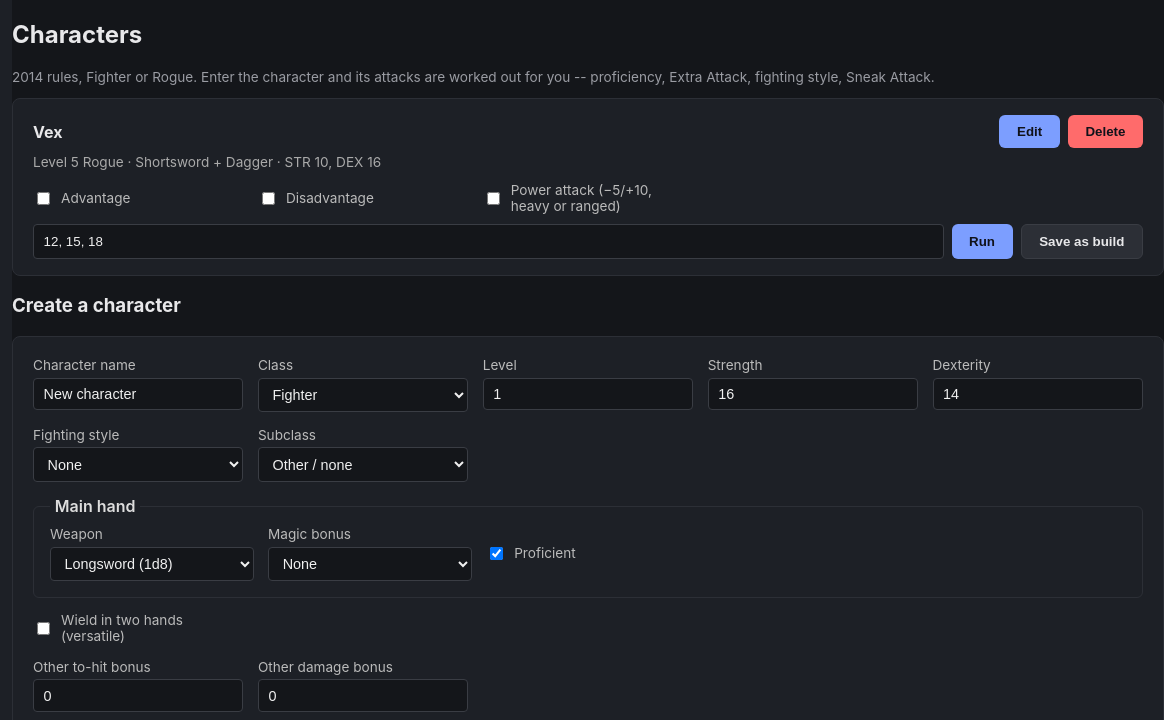
CharactersPanel › saves the character's round as a build
Expected: the text "Vex" is shown, top-left (33, 122), bottom-right (62, 142)
Click the button "Save as build" at (1082, 241), box top-left (1021, 224), bottom-right (1143, 259)
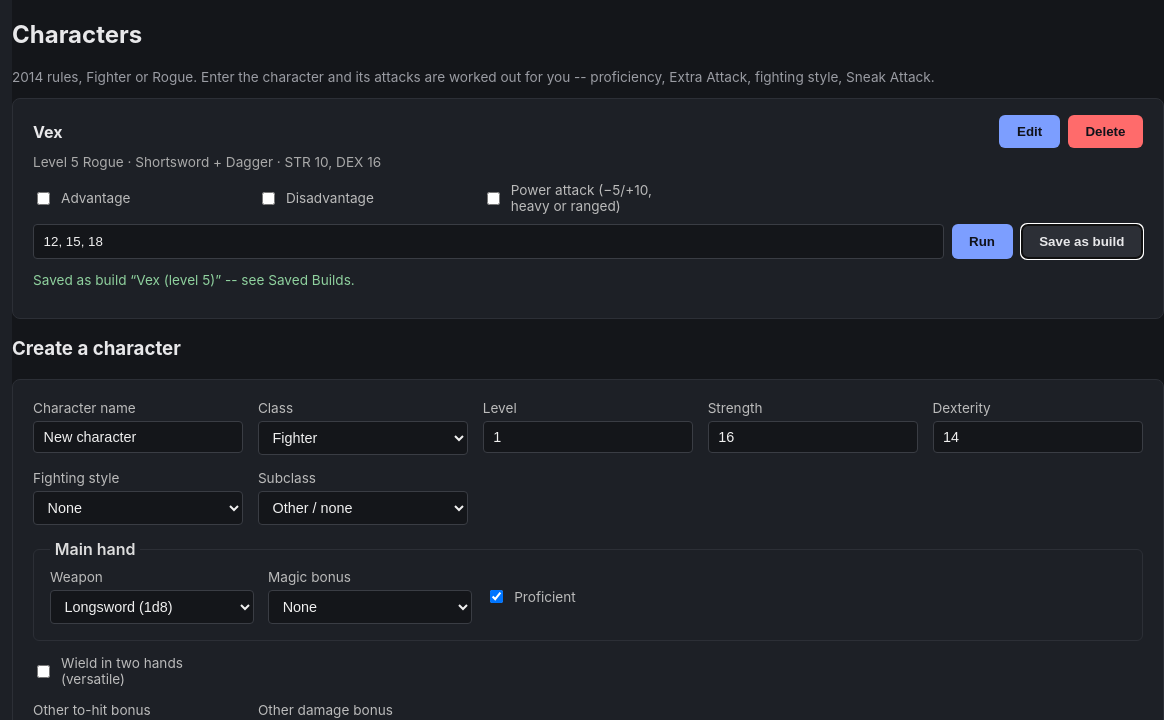
Expected: the text "Saved as build “Vex (level 5)” -- see Saved Builds." is shown, top-left (33, 272), bottom-right (355, 288)
